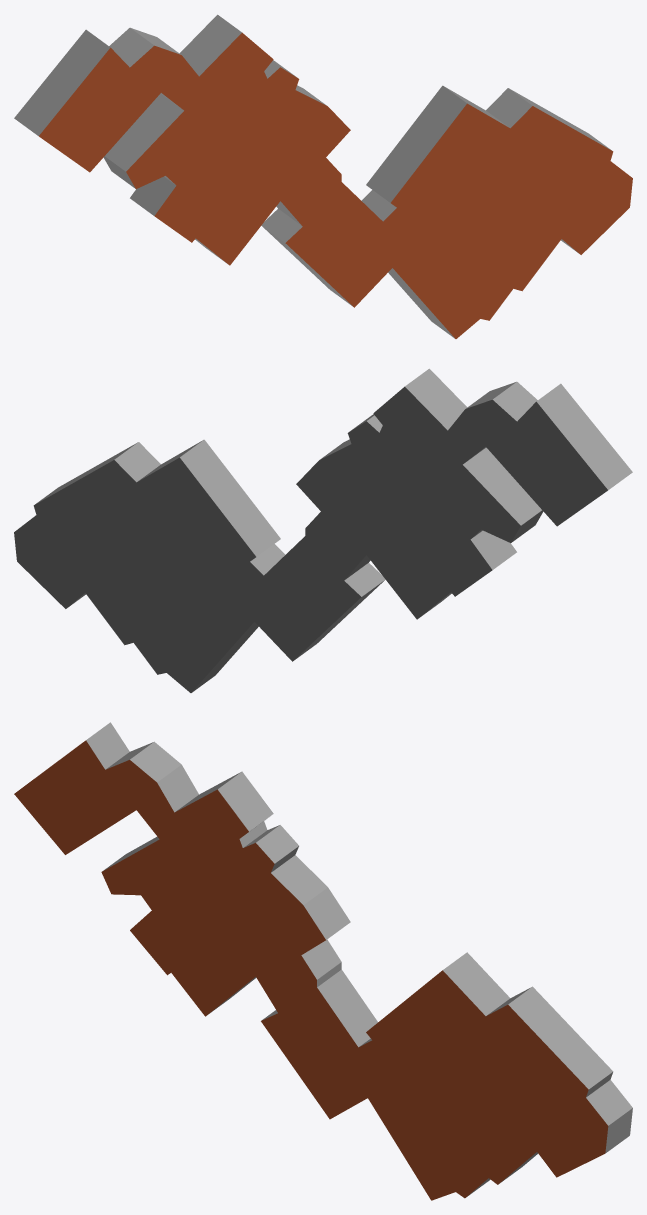
The model's file is construction_3234_assumed_A_Casa_h6m.obj.
The picture shows the model from 3 angles, top to bottom: view 1: azimuth 30°, elevation 25°; view 2: azimuth 150°, elevation 25°; view 3: azimuth 330°, elevation 25°; orthographic projection.
Visible parts, largest first — view 1: construction_3234_assumed_A_Casa; view 2: construction_3234_assumed_A_Casa; view 3: construction_3234_assumed_A_Casa.
Boxes of the visible parts, box(x1,y1,x2,y2) form: construction_3234_assumed_A_Casa: box(14, 14, 632, 338); construction_3234_assumed_A_Casa: box(14, 368, 632, 692); construction_3234_assumed_A_Casa: box(14, 722, 632, 1200).
Size of the model in its own units: 83.55 by 50.55 by 6.
